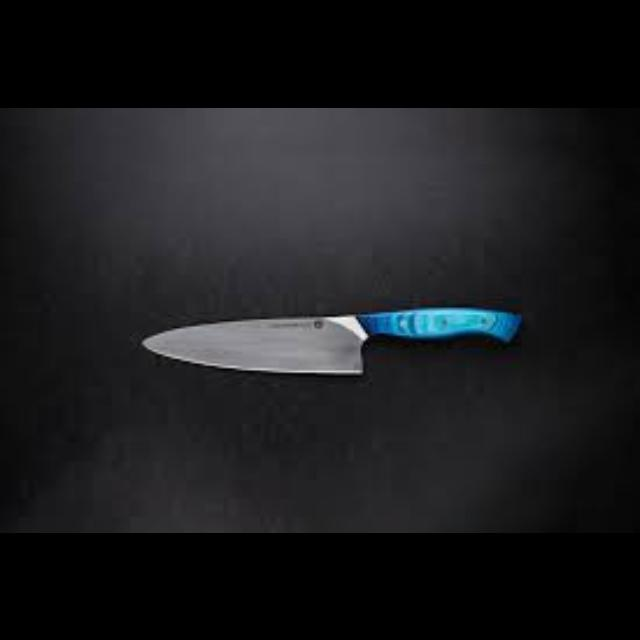Knife: (140, 306, 520, 374)
